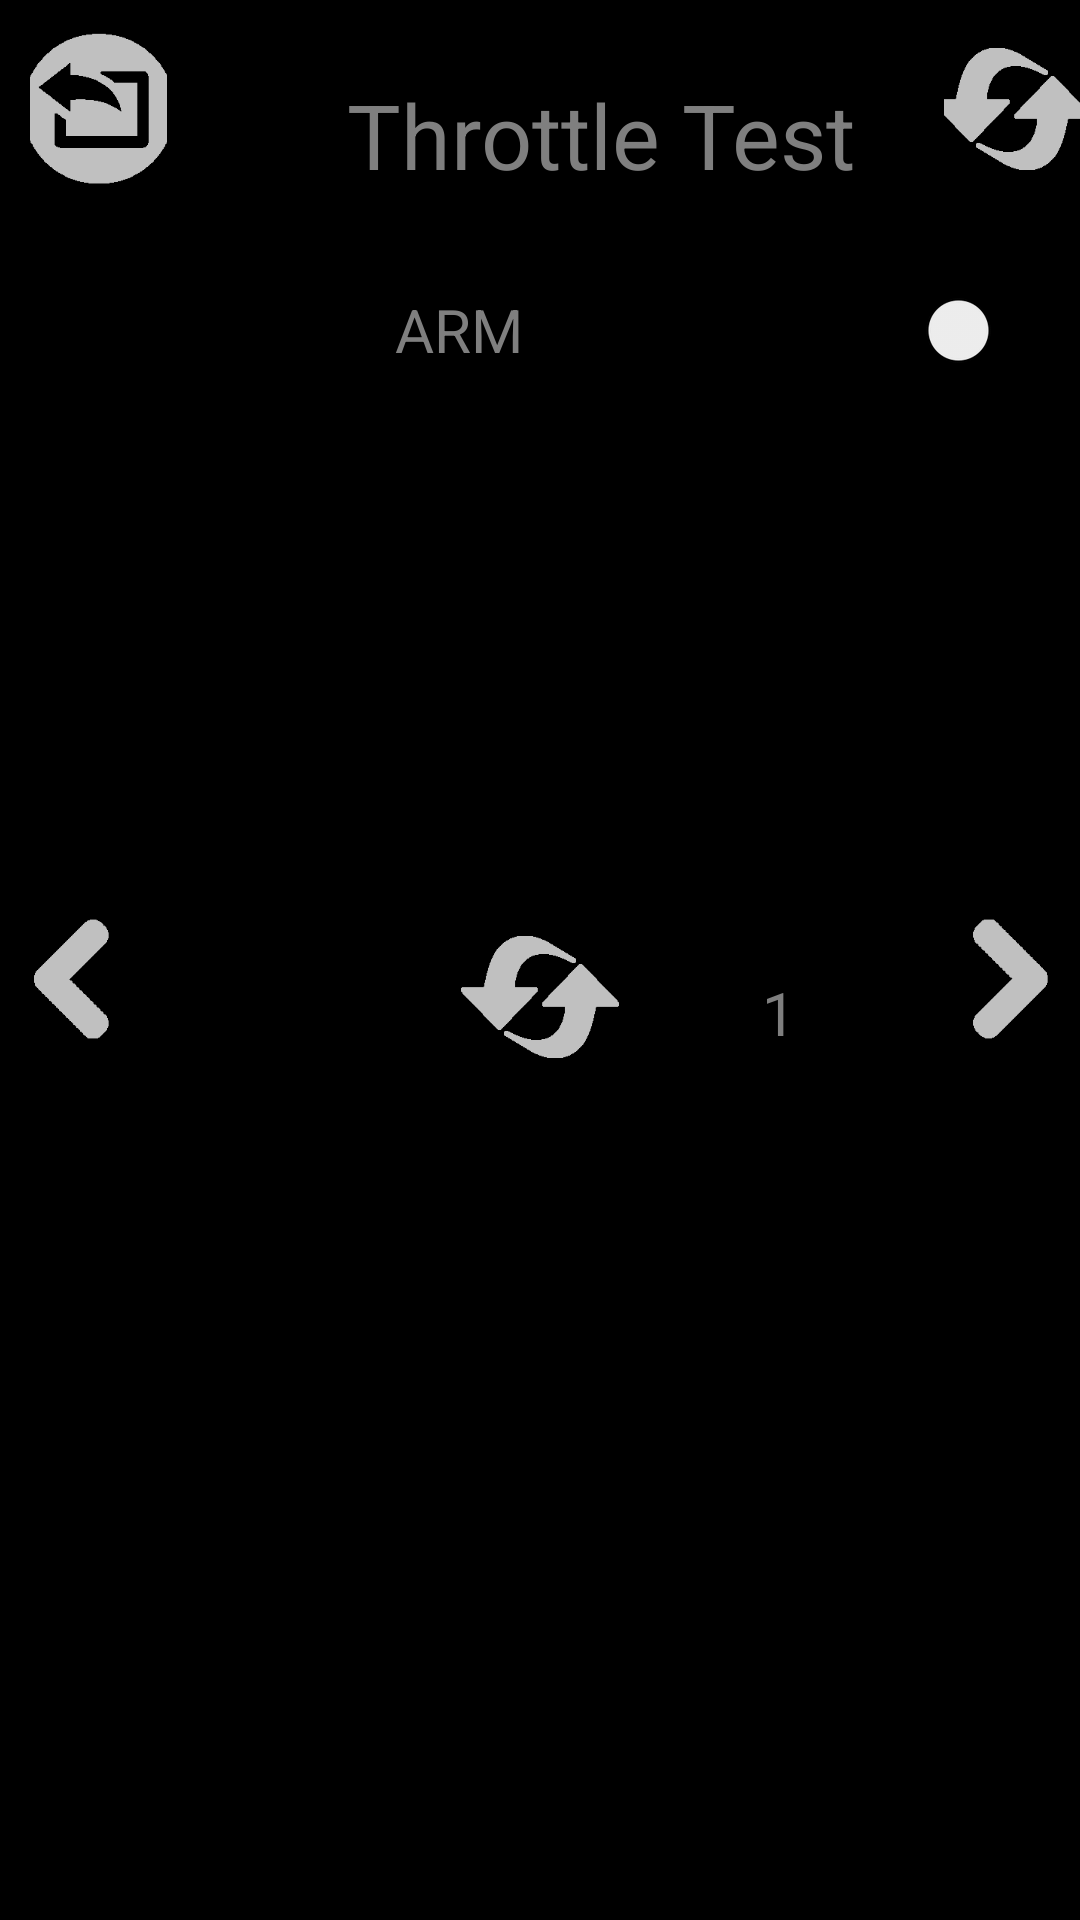

Icons on this 1080×1920 Android screen, each with its box as (x1, y1, x2, y2):
unselect left: (34, 919, 109, 1039)
unselect right: (973, 919, 1048, 1039)
